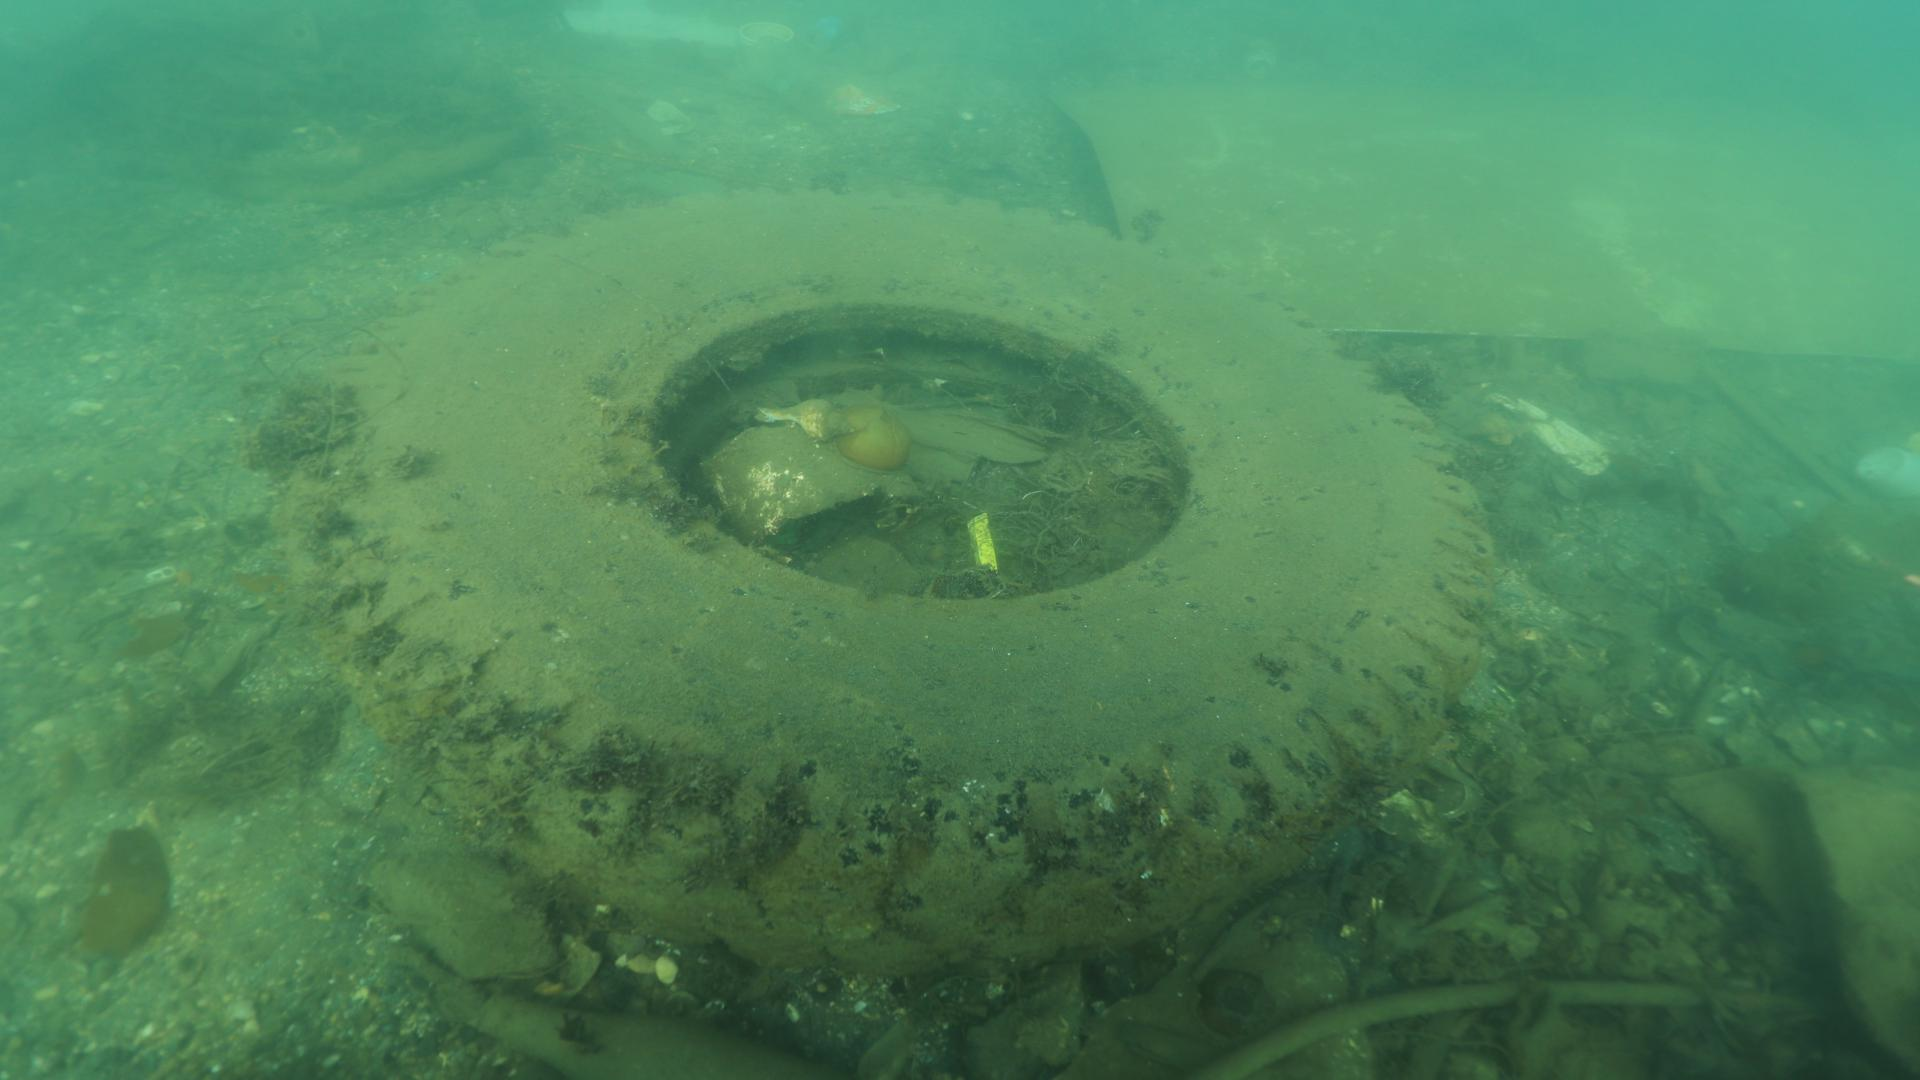tire: (301, 182, 1495, 971)
